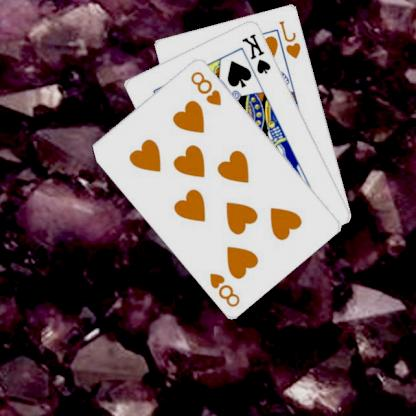8H: (189, 68, 225, 107), (208, 270, 244, 308)
JH: (278, 18, 305, 60)
KS: (241, 31, 275, 75)
